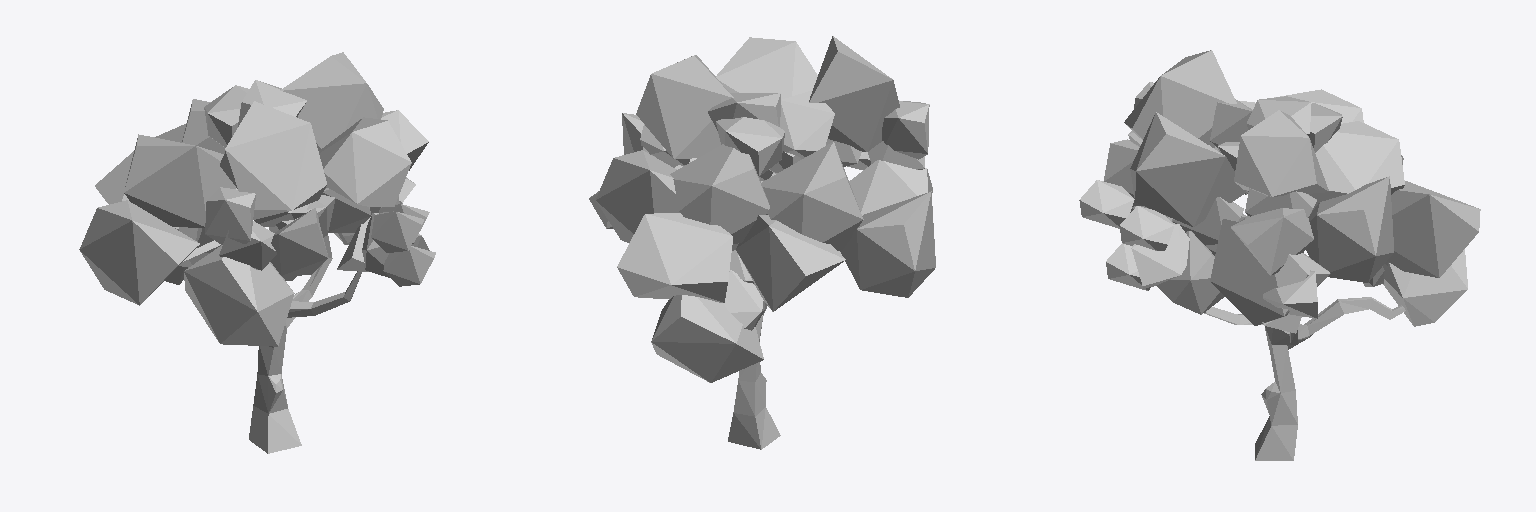
The model's file is tree.obj.
3 renders of one model, left to right at view 1: azimuth 30°, elevation 25°; view 2: azimuth 150°, elevation 25°; view 3: azimuth 270°, elevation 25°, orthographic.
Parts seen in each view (by area): view 1: tree1; view 2: tree1; view 3: tree1.
Boxes of the visible parts, x1=… form: tree1: x1=79, y1=52, x2=435, y2=453; tree1: x1=589, y1=36, x2=935, y2=449; tree1: x1=1079, y1=50, x2=1480, y2=460.
Size of the model in its own units: 1.12 by 1.24 by 1.2.